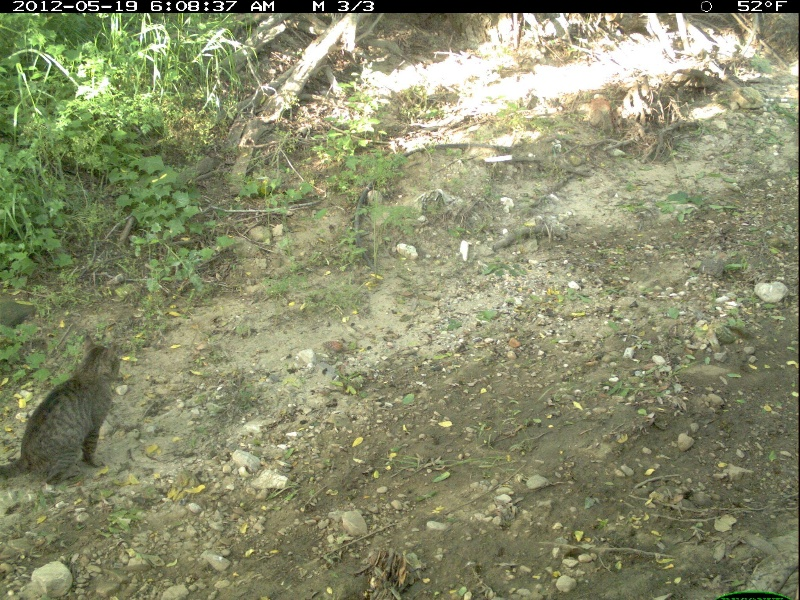cat: (3, 334, 125, 495)
